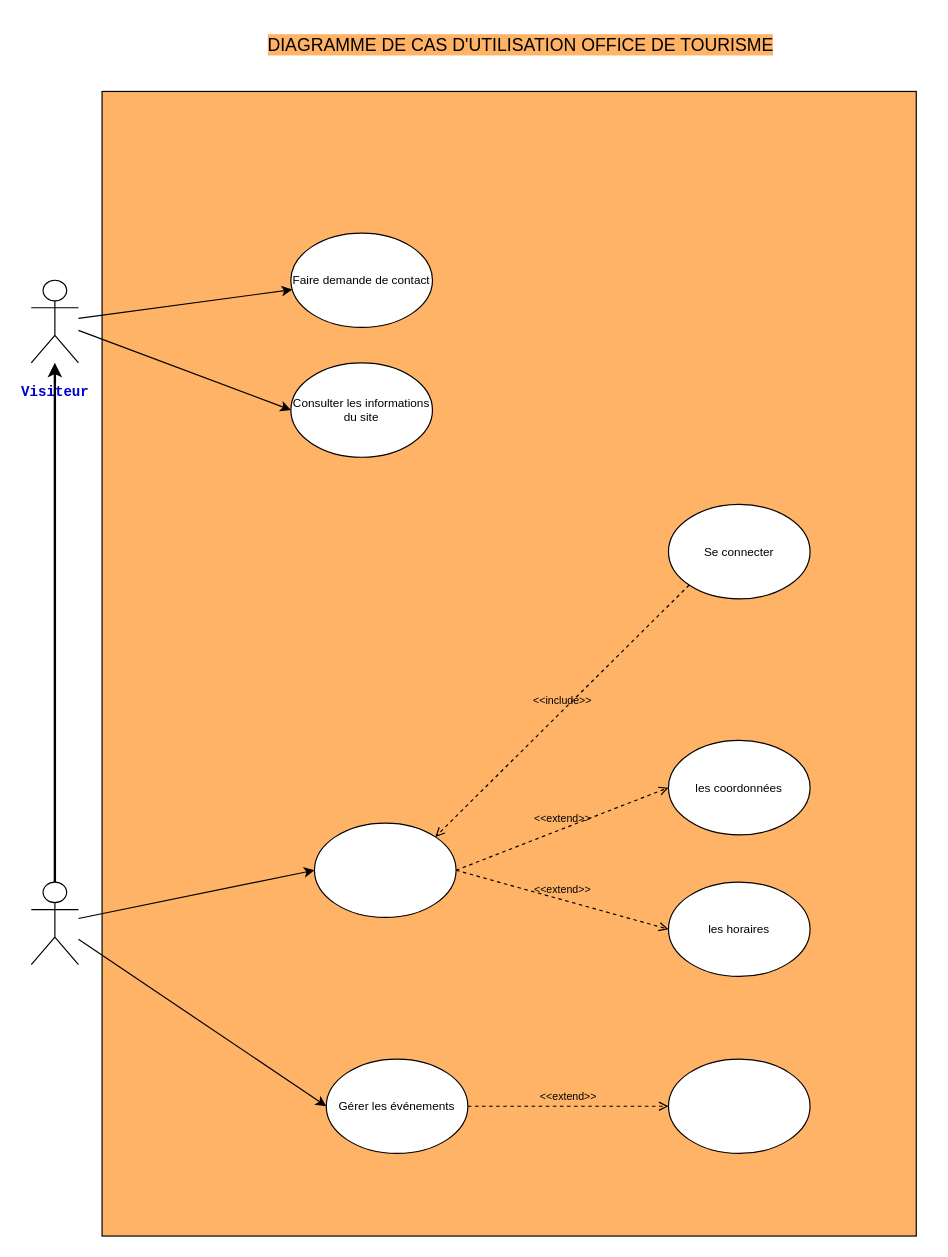
This 948x1257 diagram has some shape labels left out. Here are the shapes that lost their labels. From the top down, the centre of each, then its label:
point 384,869: Gérer les informations
point 54,923: Admin
point 738,1105: le contenu
